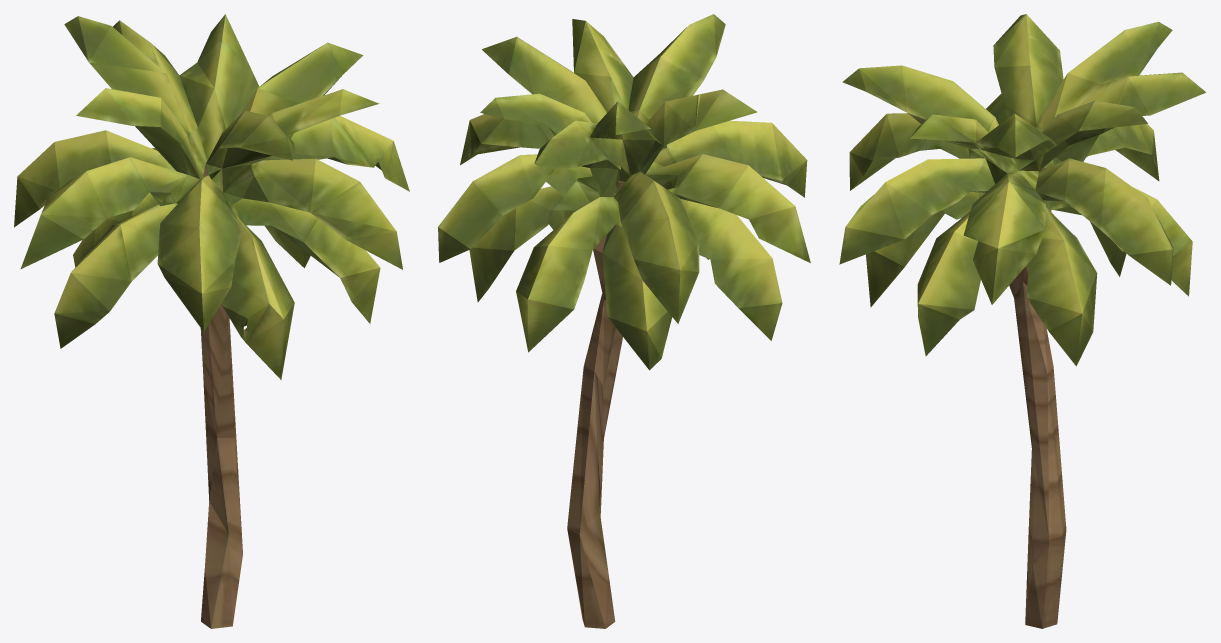
File: palm_b_far.glb
3 views of the same model, side by side, from view 1: azimuth 30°, elevation 25°; view 2: azimuth 150°, elevation 25°; view 3: azimuth 270°, elevation 25° (orthographic). The views are drawn at different scales.
Visible parts, largest first — view 1: body; view 2: body; view 3: body.
Boxes of the visible parts, box(x1,y1,x2,y2) form: body: box(14, 14, 409, 628); body: box(438, 14, 810, 628); body: box(839, 14, 1205, 628).
Bounding box in the file's own units: 4.4 × 6.52 × 3.86.
2 materials, 2 textured.
